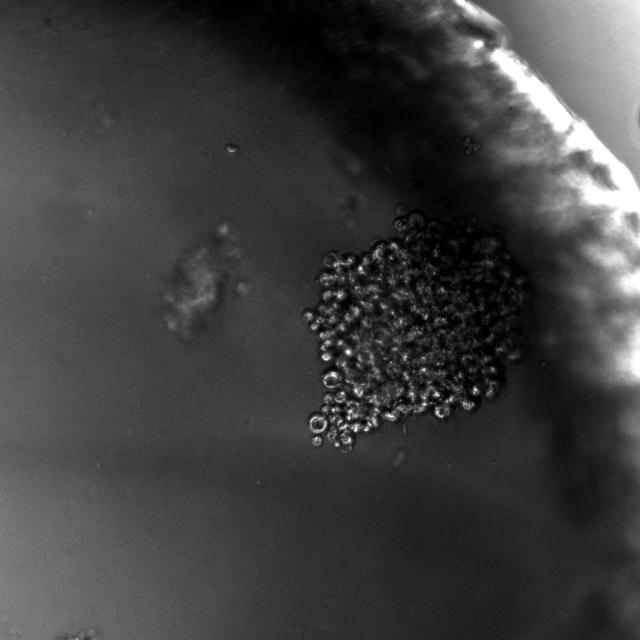organoid: (303, 207, 529, 451), (161, 220, 246, 341)
